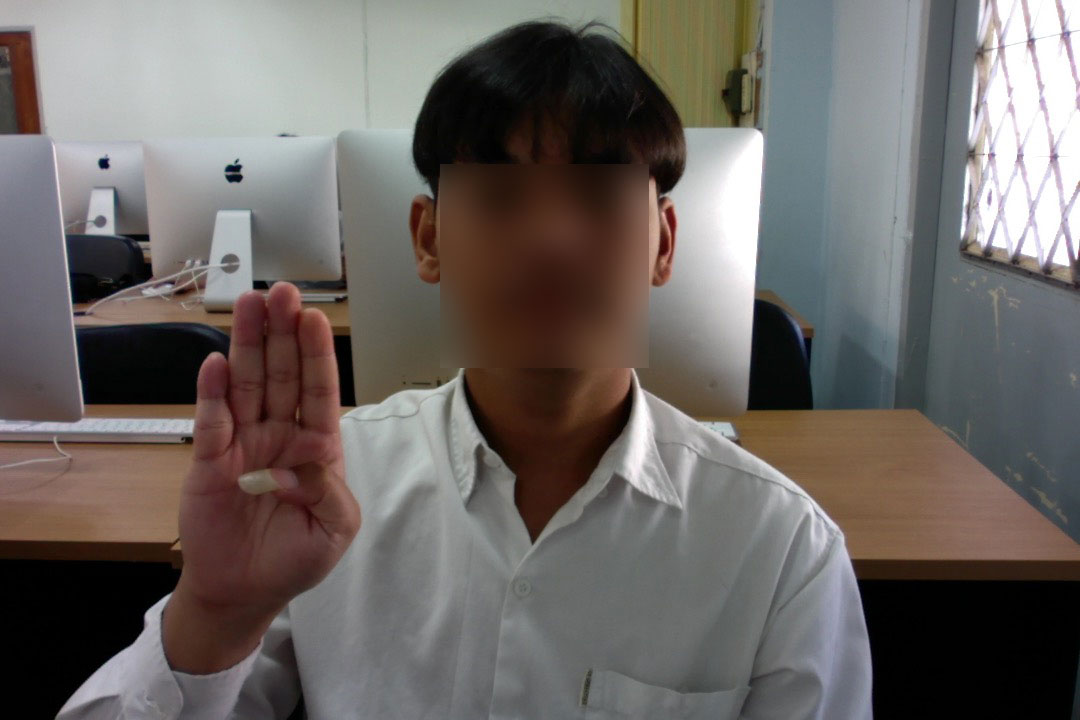bor: (168, 275, 366, 606)
